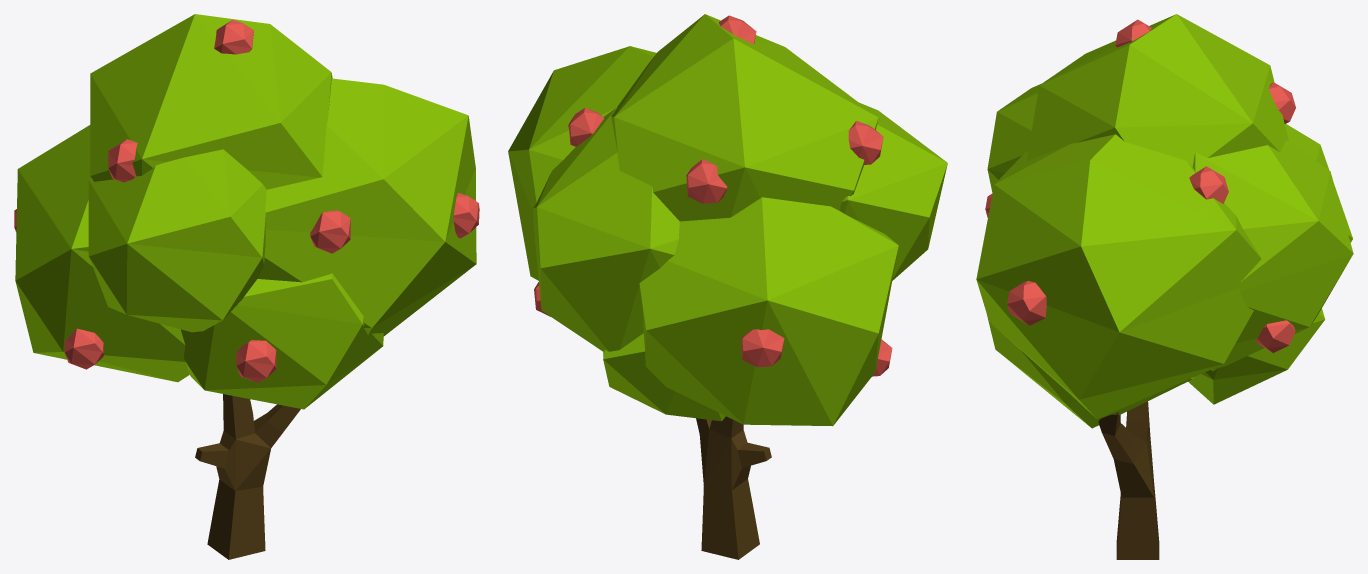
Rendered from Tree_Apple_Crown.fbx.
3 views of the same model, side by side, from view 1: azimuth 30°, elevation 25°; view 2: azimuth 150°, elevation 25°; view 3: azimuth 270°, elevation 25° (orthographic).
Visible parts, largest first — view 1: Tree_Apple_Crown; view 2: Tree_Apple_Crown; view 3: Tree_Apple_Crown.
Part boxes in pixels (x1,y1,x2,y2): Tree_Apple_Crown: [14, 14, 479, 559]; Tree_Apple_Crown: [508, 14, 947, 559]; Tree_Apple_Crown: [976, 14, 1353, 559].
Bounding box in the file's own units: 417 × 506 × 328.
